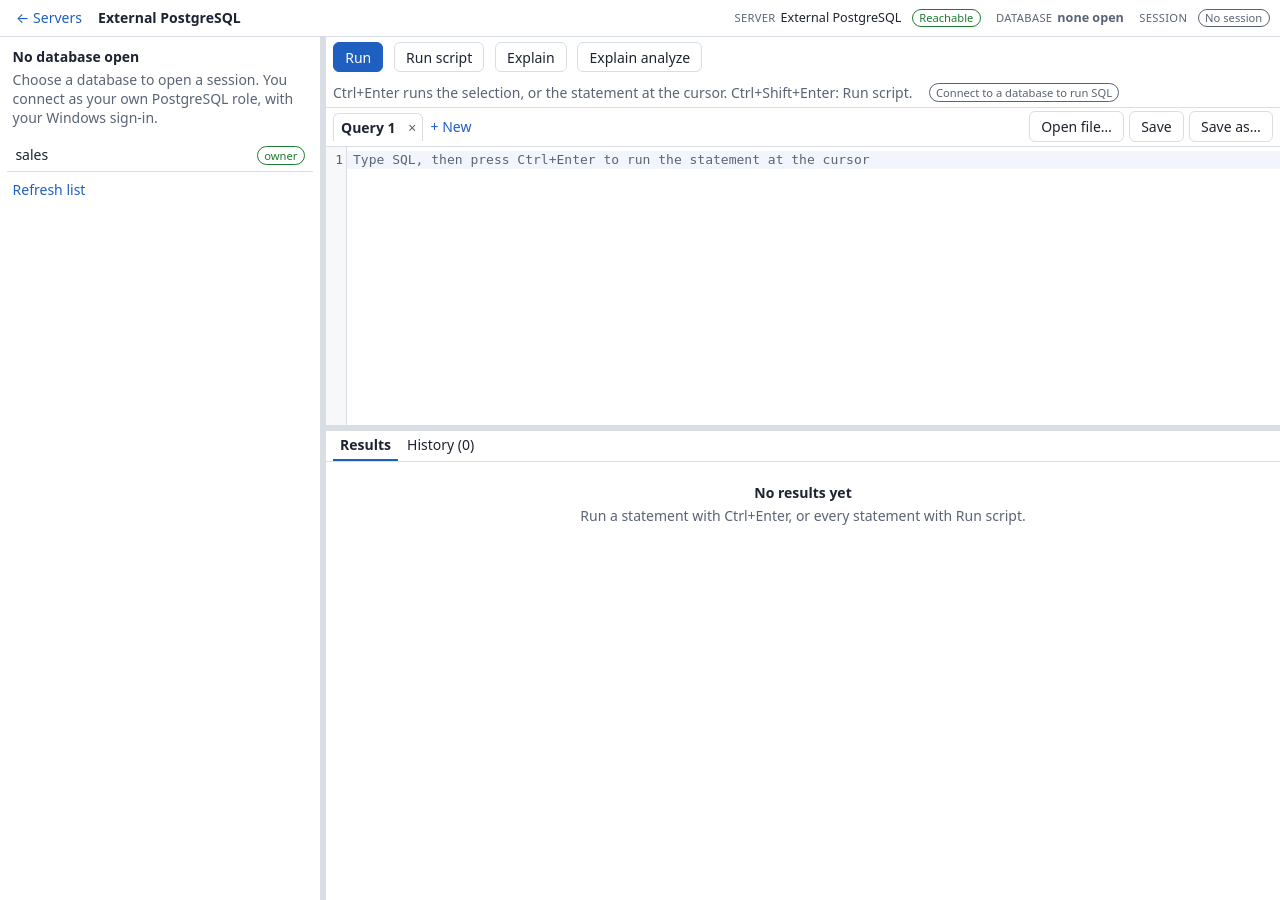
Test: Workspace transactions › cancelling the confirmation runs nothing
This screenshot has width=1280, height=900.
Click the button "sales owner": (32, 155) [7,139,313,172]
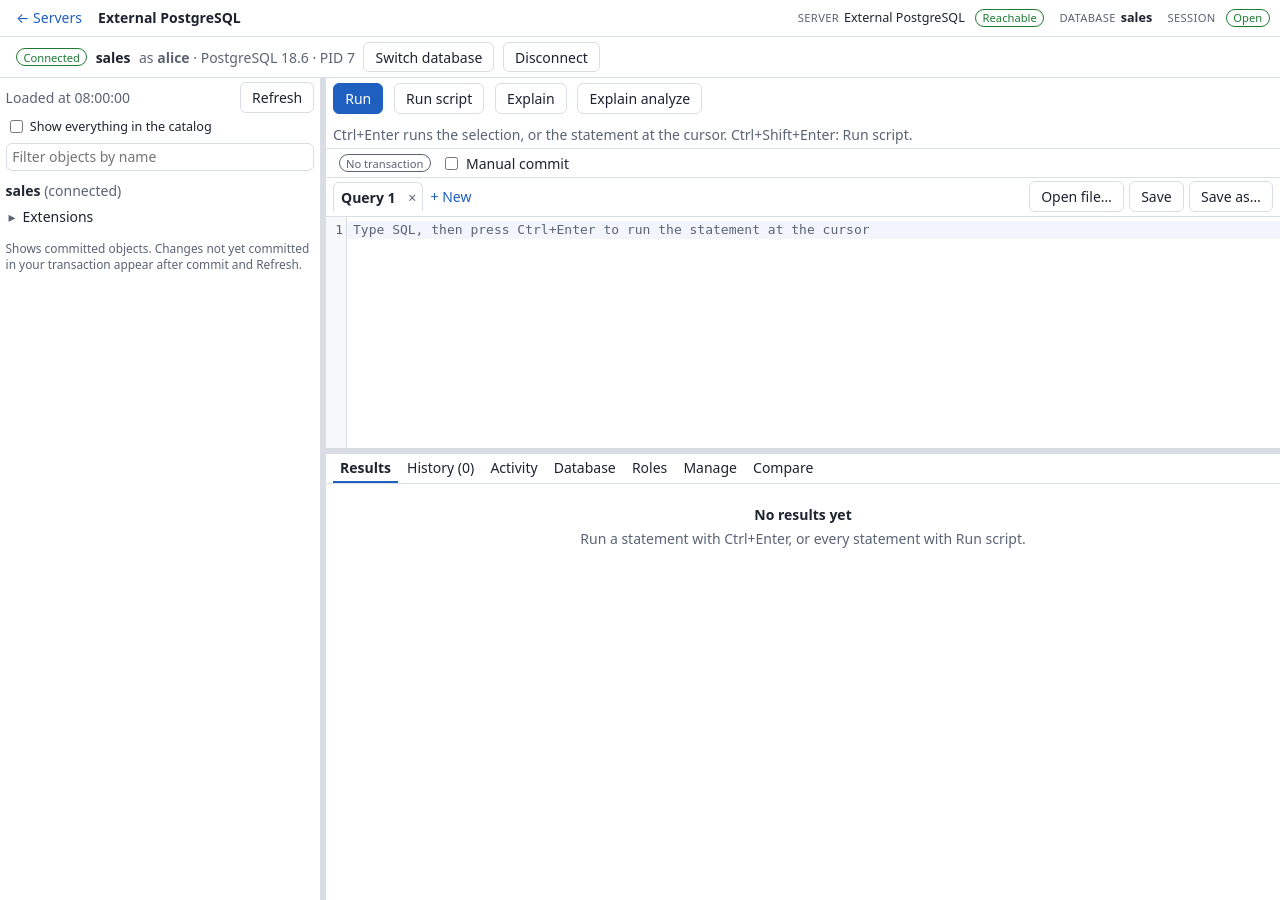
Click the field named "SQL editor": (814, 230) [347,221,1279,239]
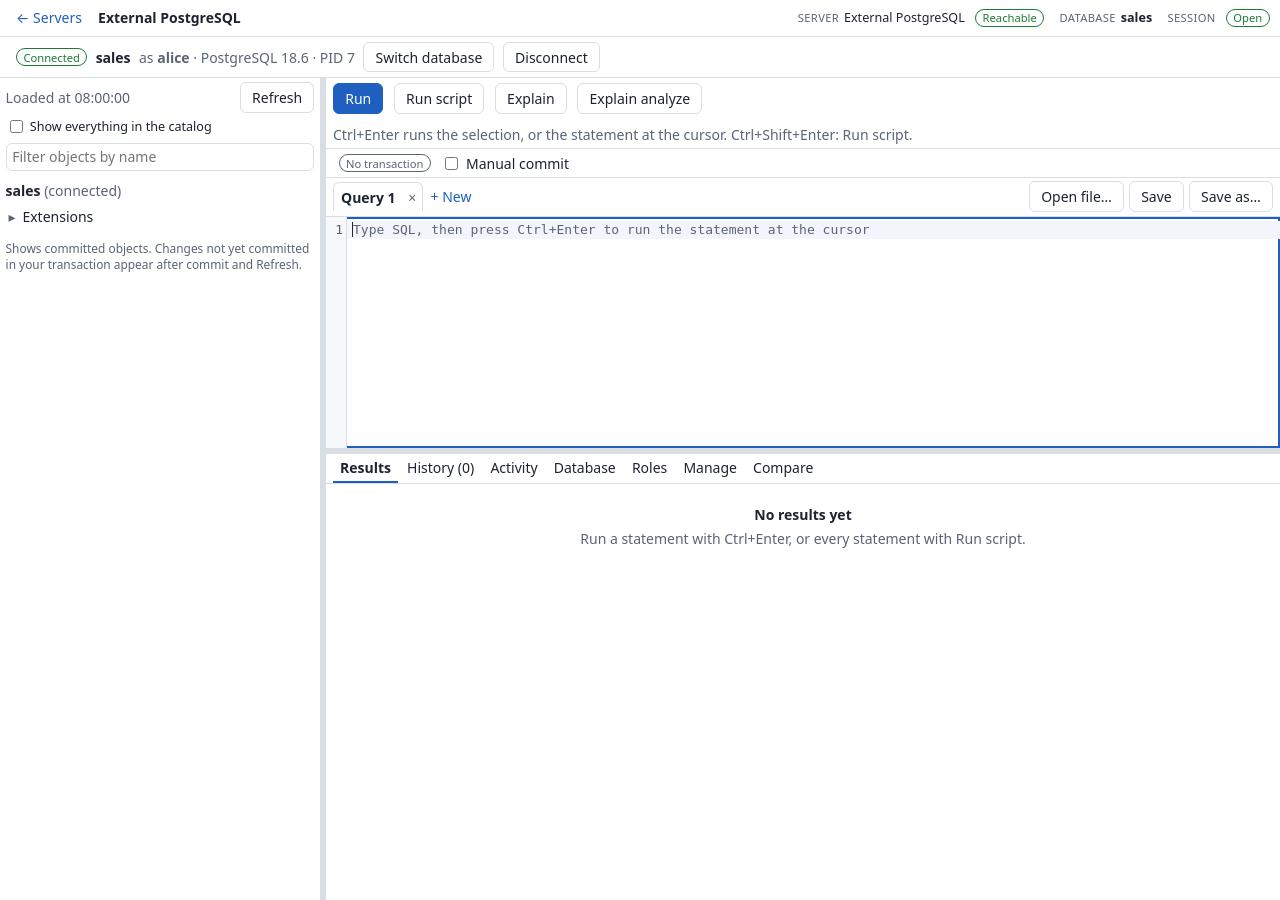
Type keys "TRUNCATE t"
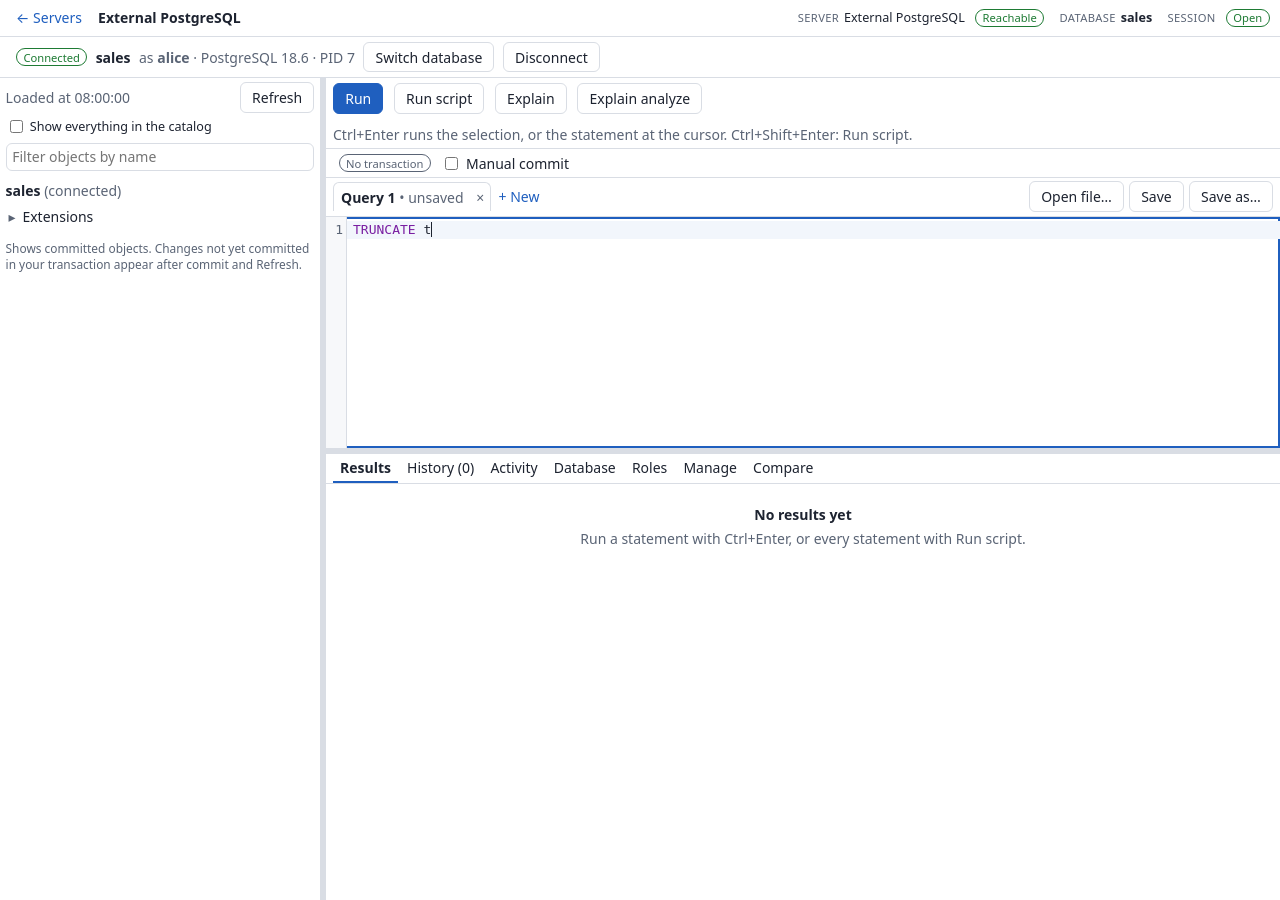
Click the button "Run": (358, 99) [333,83,383,114]
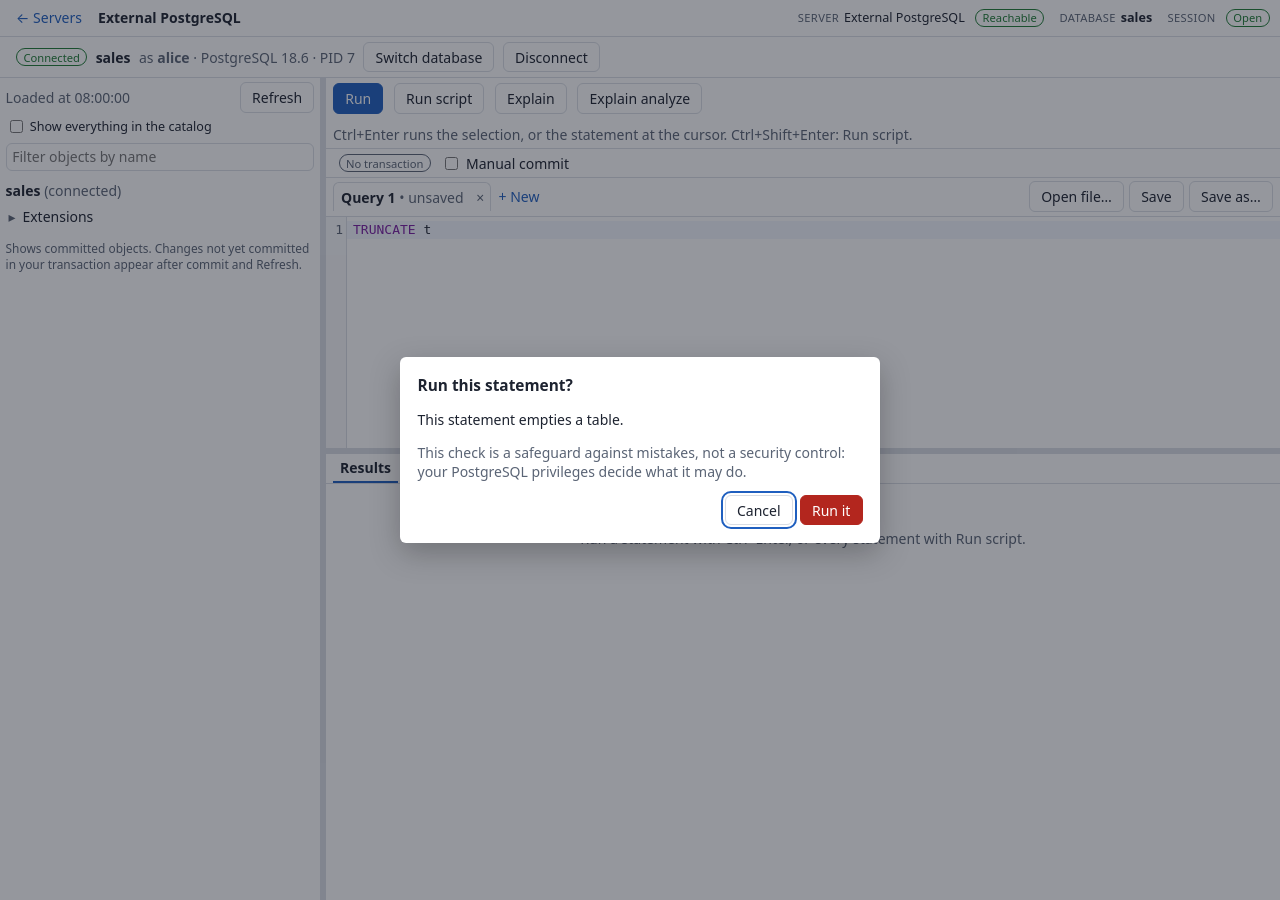
Expected: the dialog "Run this statement?" is shown, [400,357,880,543]
Click the button "Cancel": (759, 510) [725,495,793,525]
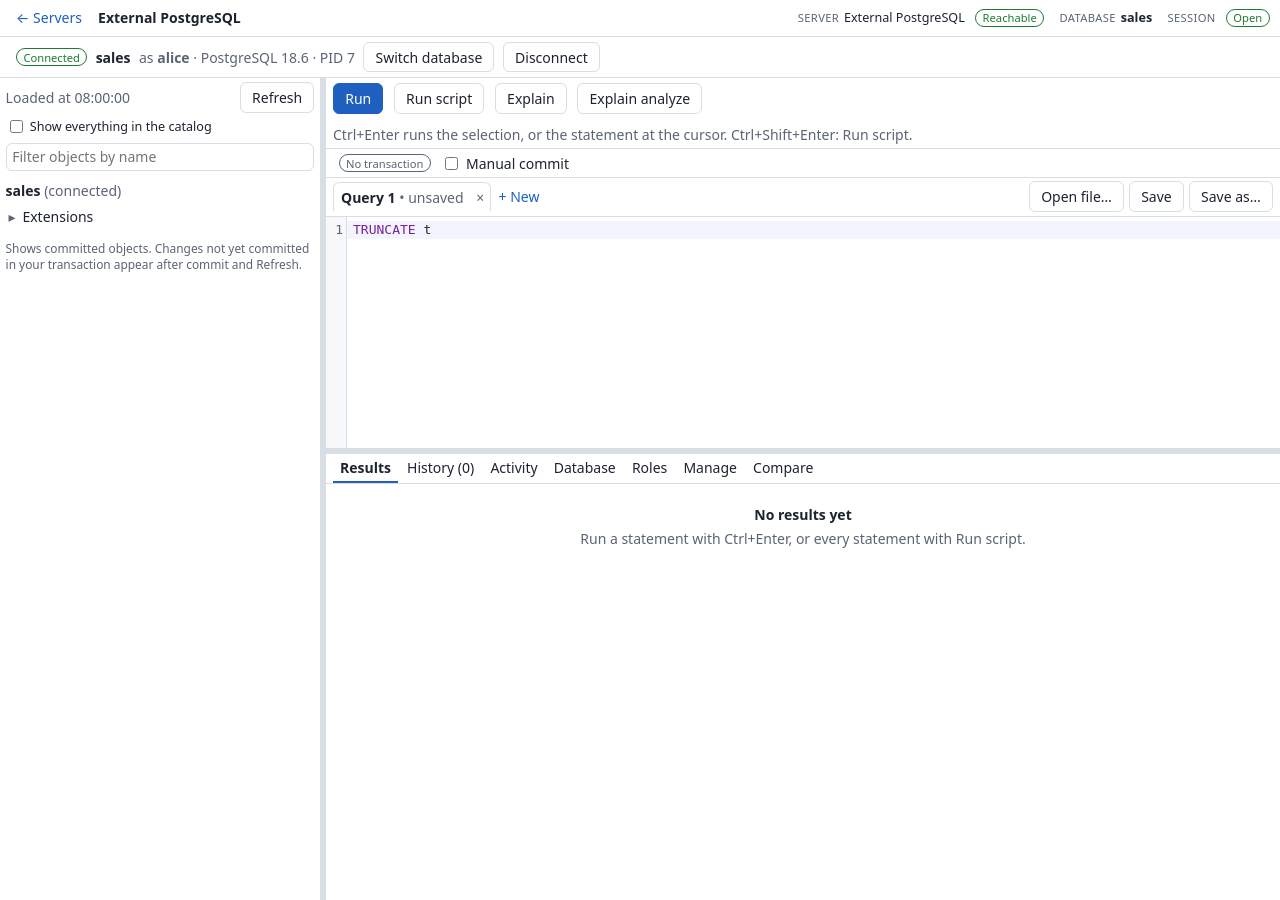
Expected: the dialog is gone
